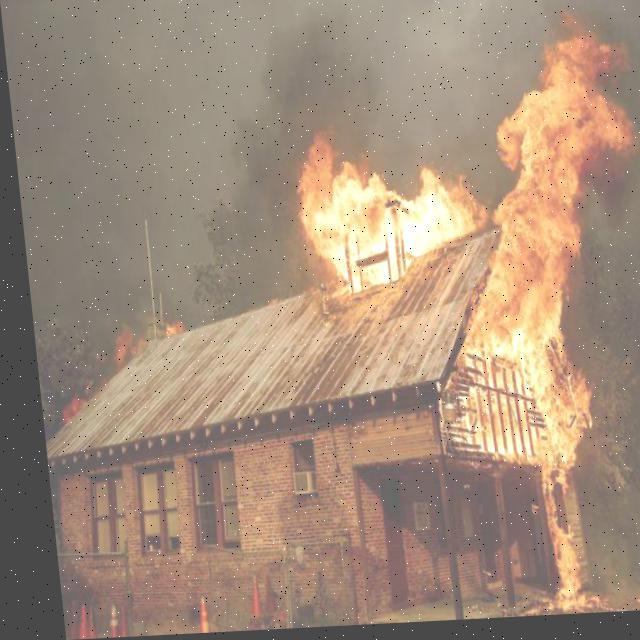Fire: (271, 8, 639, 627), (100, 324, 140, 373), (153, 317, 176, 343)
